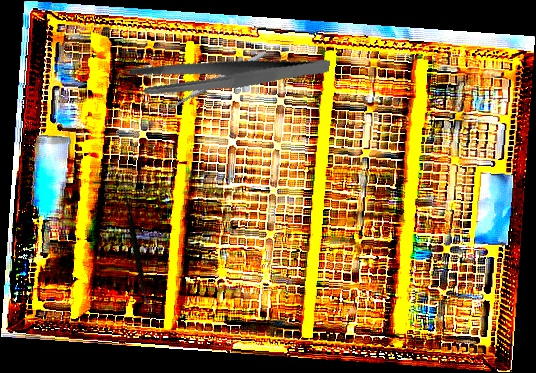Dressing Forceps: (126, 22, 331, 128)
Spatula Surgical: (68, 177, 200, 311)
Surgical Spoon: (158, 49, 268, 117)
